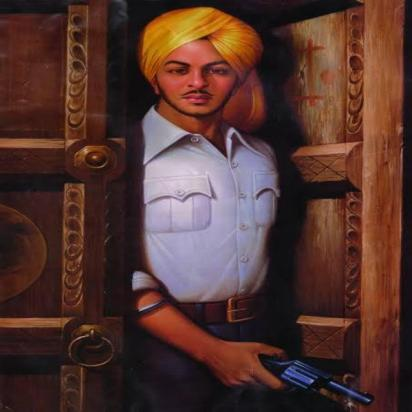Gun: (217, 345, 388, 409)
